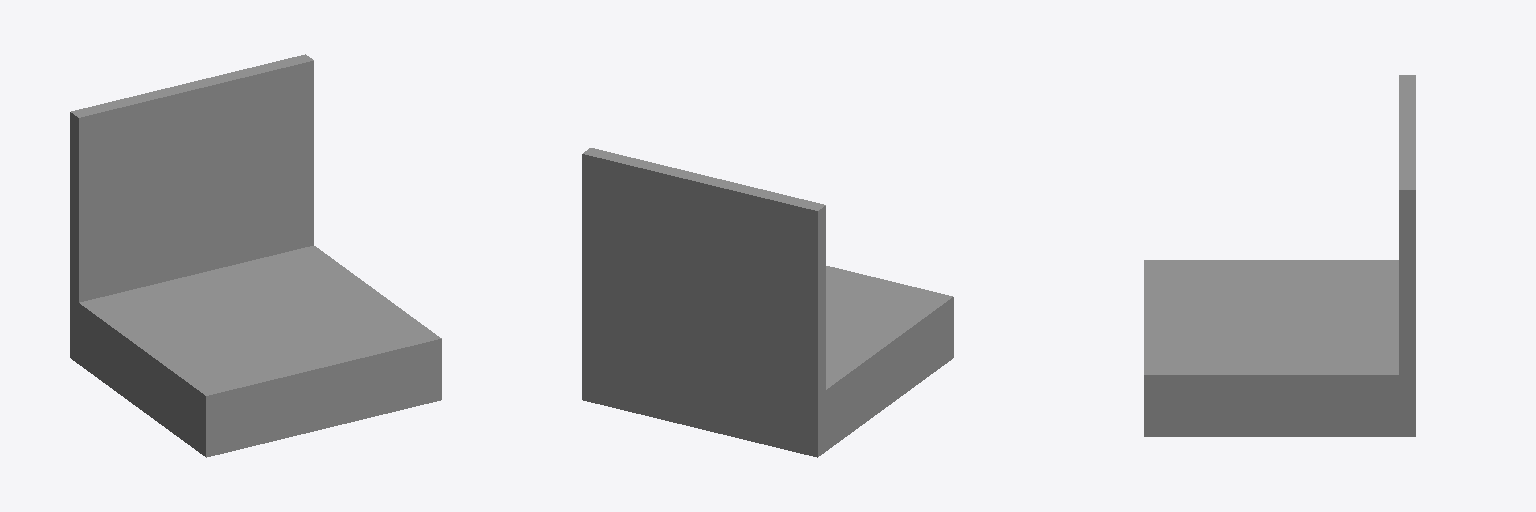
Rendered from magcent_housing.obj.
The picture shows the model from 3 angles: view 1: azimuth 30°, elevation 25°; view 2: azimuth 150°, elevation 25°; view 3: azimuth 270°, elevation 25°; orthographic projection.
Visible parts, largest first — view 1: Cube; view 2: Cube; view 3: Cube.
Boxes of the visible parts, <box> form: Cube: <box>70,54,441,457</box>; Cube: <box>582,148,953,457</box>; Cube: <box>1144,75,1415,436</box>.
Bounding box in the file's own units: 1 × 1 × 1.